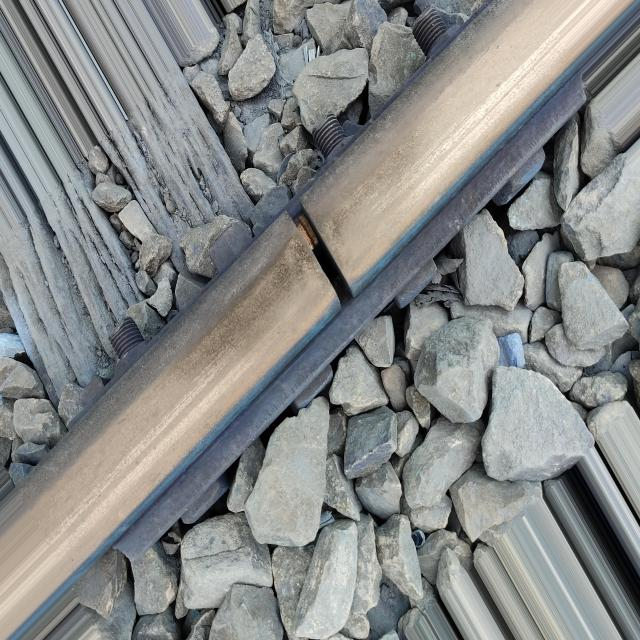crack: (263, 172, 370, 328)
